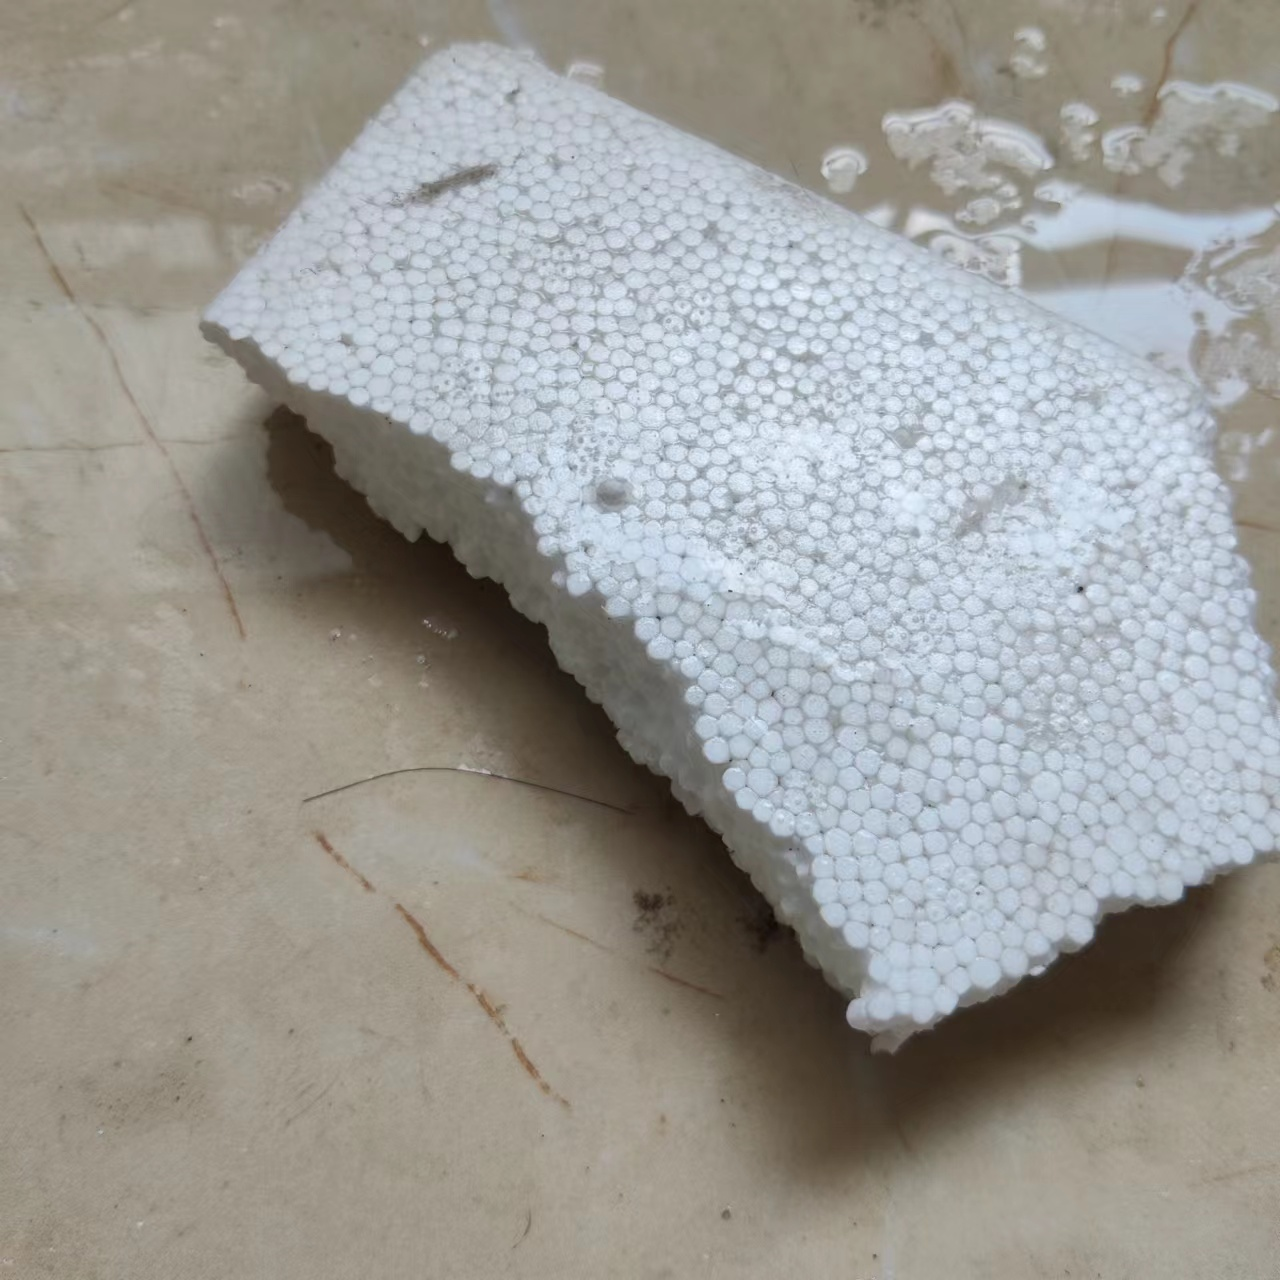5/可回收垃圾/泡沫: (197, 40, 1280, 1055)
